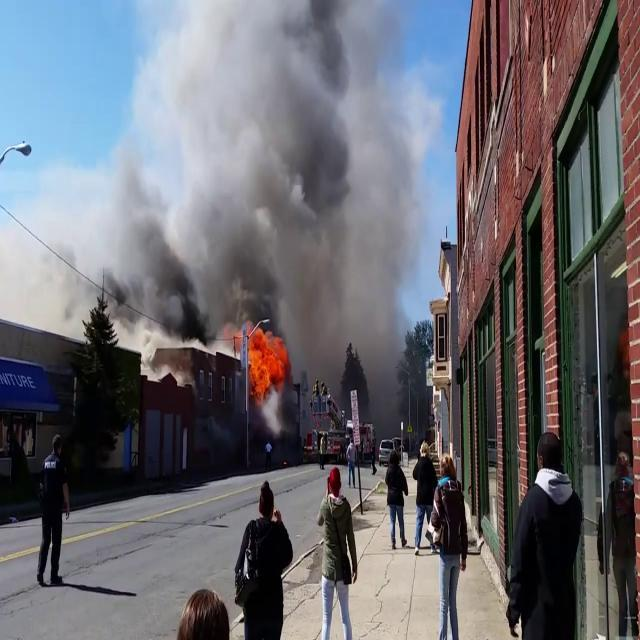Fire: (243, 322, 290, 398)
Smoke: (102, 0, 416, 355)
